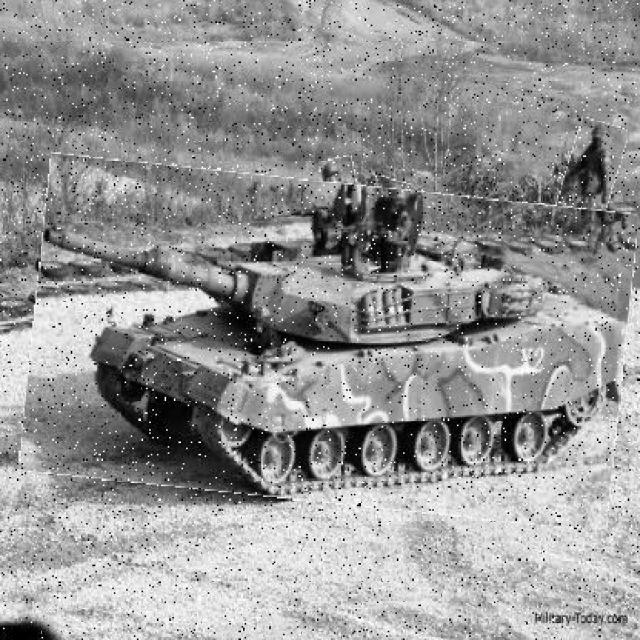Person: (561, 121, 623, 229), (360, 178, 409, 270), (324, 158, 364, 250)
Tank: (27, 169, 633, 518)
